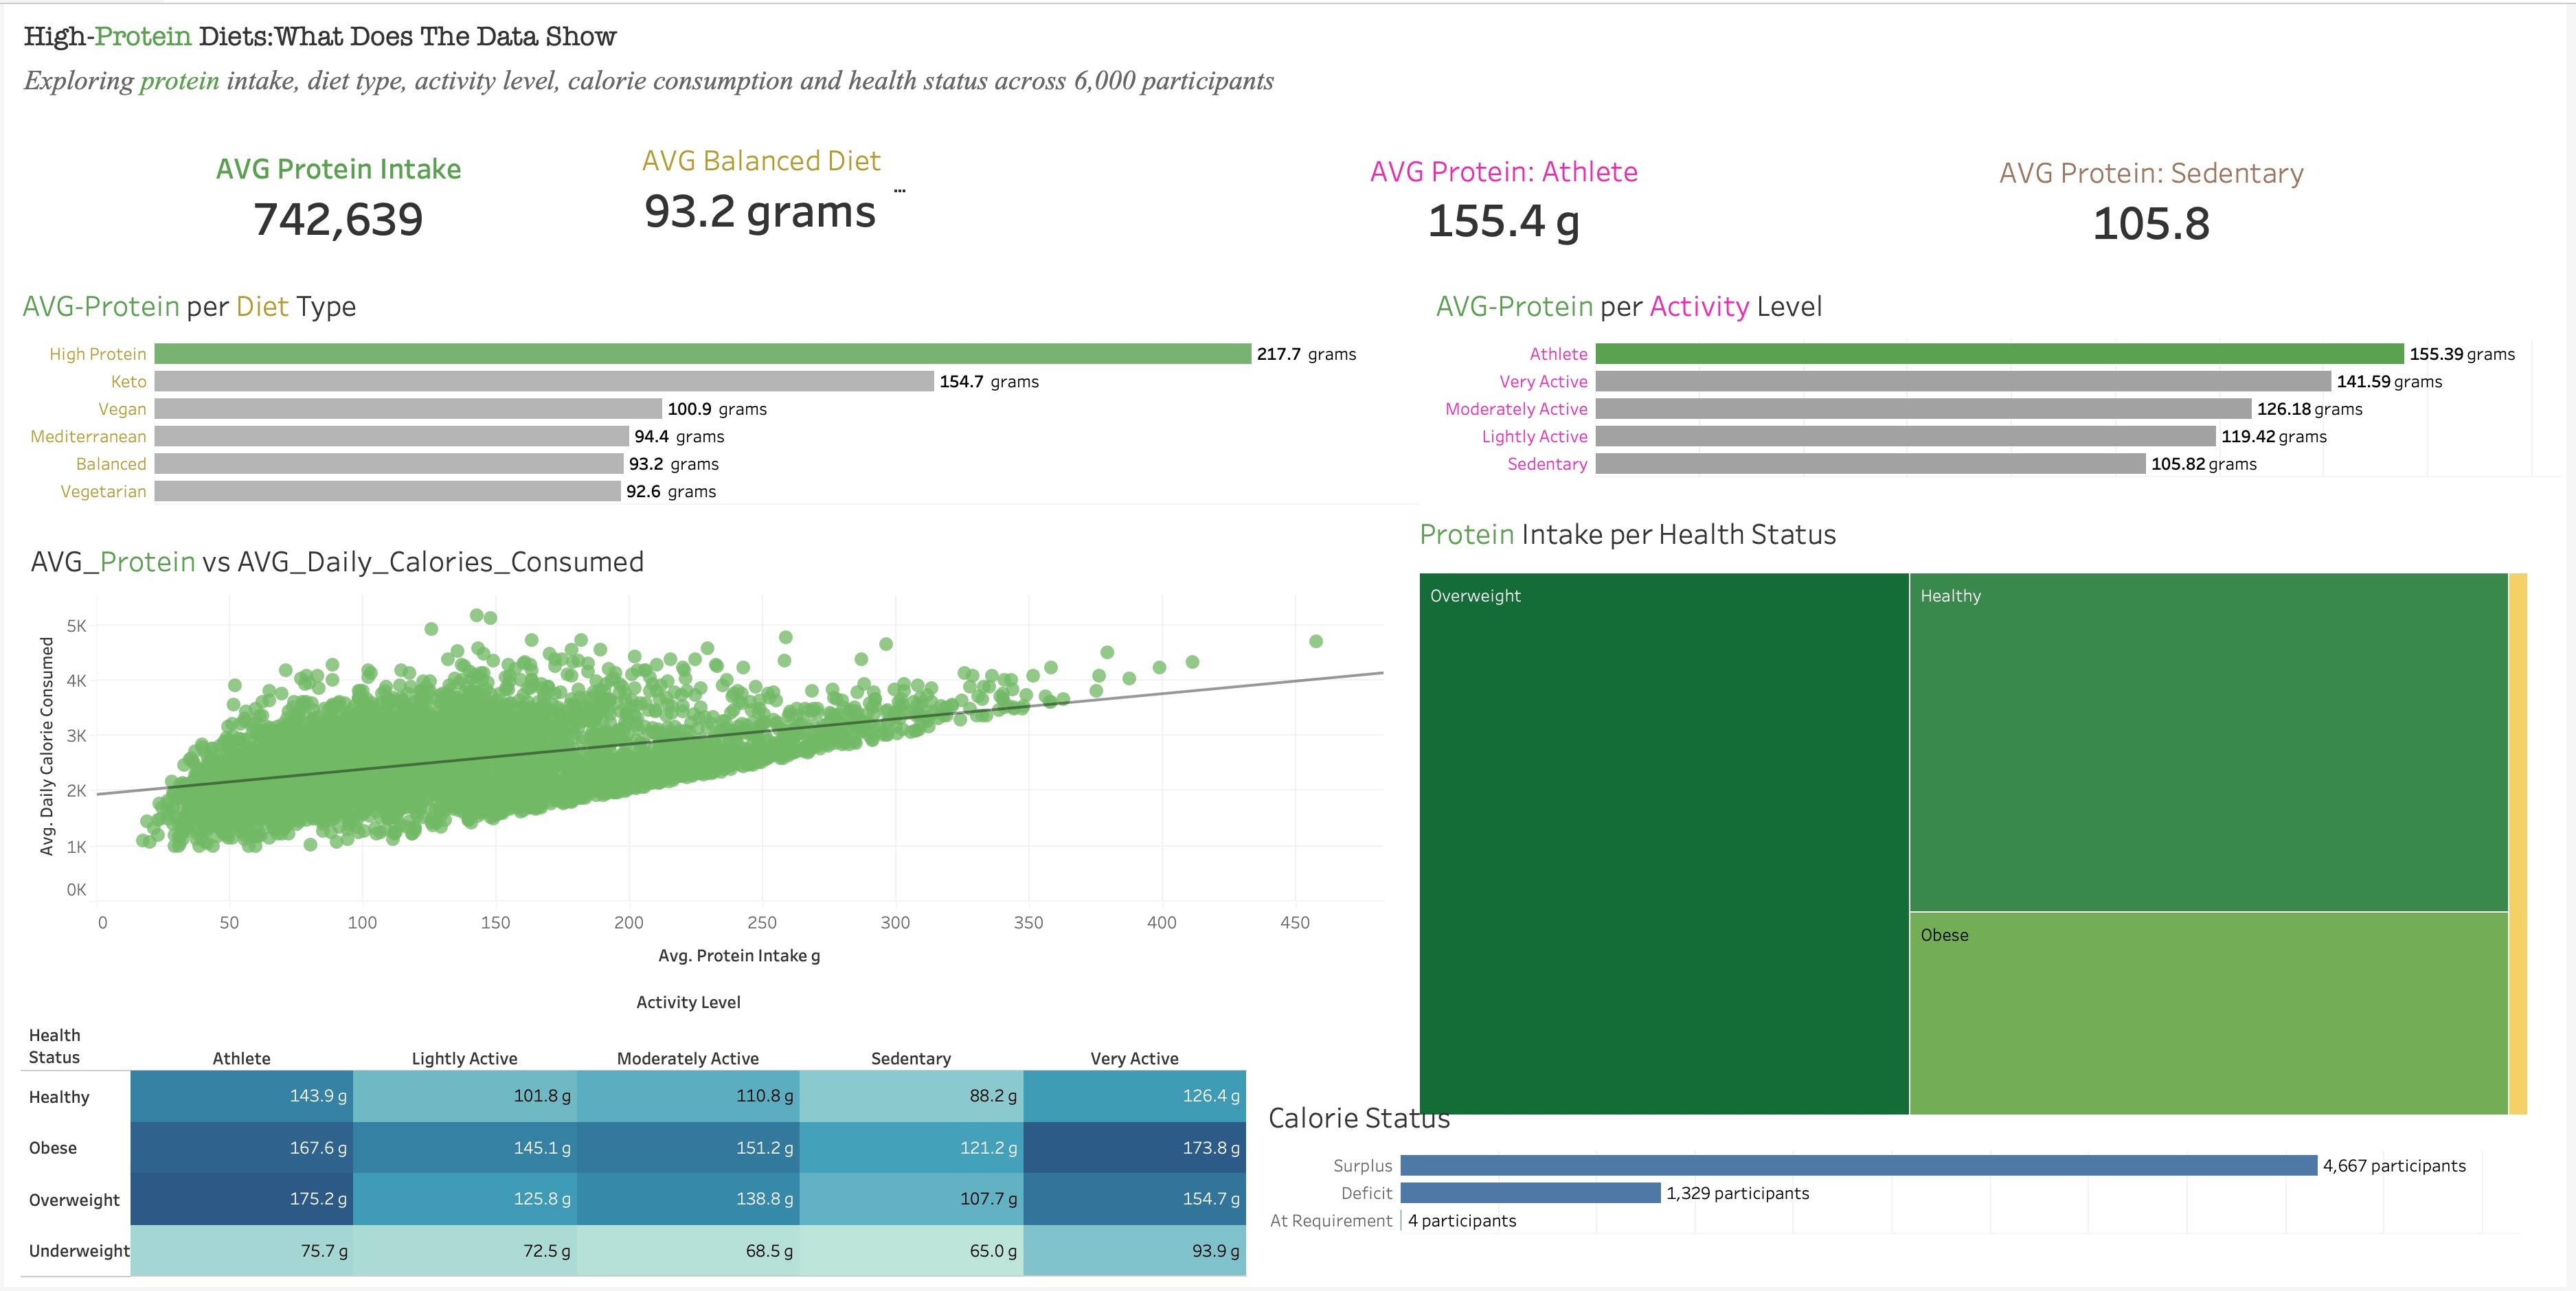

The page's visual inventory and layout, read from the dashboard file:
{"tool":"tableau","page":{"name":"High-Protein Dashboard","canvas":[1000,1000],"units":"permille","ordinal":0},"visuals":[{"type":"title","box":[4.3,10.1,991.4,40.5]},{"type":"text","box":[4.3,50.6,991.4,40.5]},{"type":"worksheet","title":"protein_kpi_card","mark":"Text","box":[1.1,88.5,260.1,126.4]},{"type":"worksheet","title":"avg protein athlete","mark":"Automatic","box":[472.9,97.4,225.7,112.5]},{"type":"worksheet","title":"avg protein sedentary","mark":"Automatic","box":[682,101.1,313.1,108.7]},{"type":"worksheet","title":"protein per diet type kpi","mark":"Automatic","box":[244.5,102.4,224.1,115]},{"type":"worksheet","title":"protein per diet type","mark":"Automatic","rows":["Diet_Type"],"cols":["Protein_Intake_g"],"box":[4.7,215.4,547.7,205.9]},{"type":"worksheet","title":"protein per activity level","mark":"Automatic","rows":["Activity_Level"],"cols":["Protein_Intake_g"],"box":[556.5,215.4,441.8,187]},{"type":"worksheet","title":"Protein Intake per Health Status","mark":"Automatic","box":[550,392.9,437.1,478.1]},{"type":"worksheet","title":"protein vs calories","mark":"Circle","rows":["Daily_Calorie_Consumed"],"cols":["Protein_Intake_g"],"box":[8.2,414.2,530.7,343.2]},{"type":"worksheet","title":"Health Status vs Activity Level","mark":"Square","rows":["Health_Status"],"cols":["Activity_Level"],"box":[6.4,766.1,478.8,226.3]},{"type":"worksheet","title":"Calorie Status","mark":"Automatic","rows":["Calculation_4548646812688384"],"cols":["Person_ID"],"box":[491.2,848.3,490.6,141.6]}]}

Visuals, with their boxes on the dashboard's canvas, which has no fixed pixel size, in thousandths of its width and height (x1, y1, x2, y2). These are canvas units, not pixel positions in the 2576x1291 screenshot, which may show the page scaled, cropped or inside an application window:
title: left=4, top=10, right=996, bottom=51
text: left=4, top=51, right=996, bottom=91
"protein_kpi_card" worksheet (Text marks): left=1, top=88, right=261, bottom=215
"avg protein athlete" worksheet: left=473, top=97, right=699, bottom=210
"avg protein sedentary" worksheet: left=682, top=101, right=995, bottom=210
"protein per diet type kpi" worksheet: left=244, top=102, right=469, bottom=217
"protein per diet type" worksheet: left=5, top=215, right=552, bottom=421
"protein per activity level" worksheet: left=556, top=215, right=998, bottom=402
"Protein Intake per Health Status" worksheet: left=550, top=393, right=987, bottom=871
"protein vs calories" worksheet (Circle marks): left=8, top=414, right=539, bottom=757
"Health Status vs Activity Level" worksheet (Square marks): left=6, top=766, right=485, bottom=992
"Calorie Status" worksheet: left=491, top=848, right=982, bottom=990
